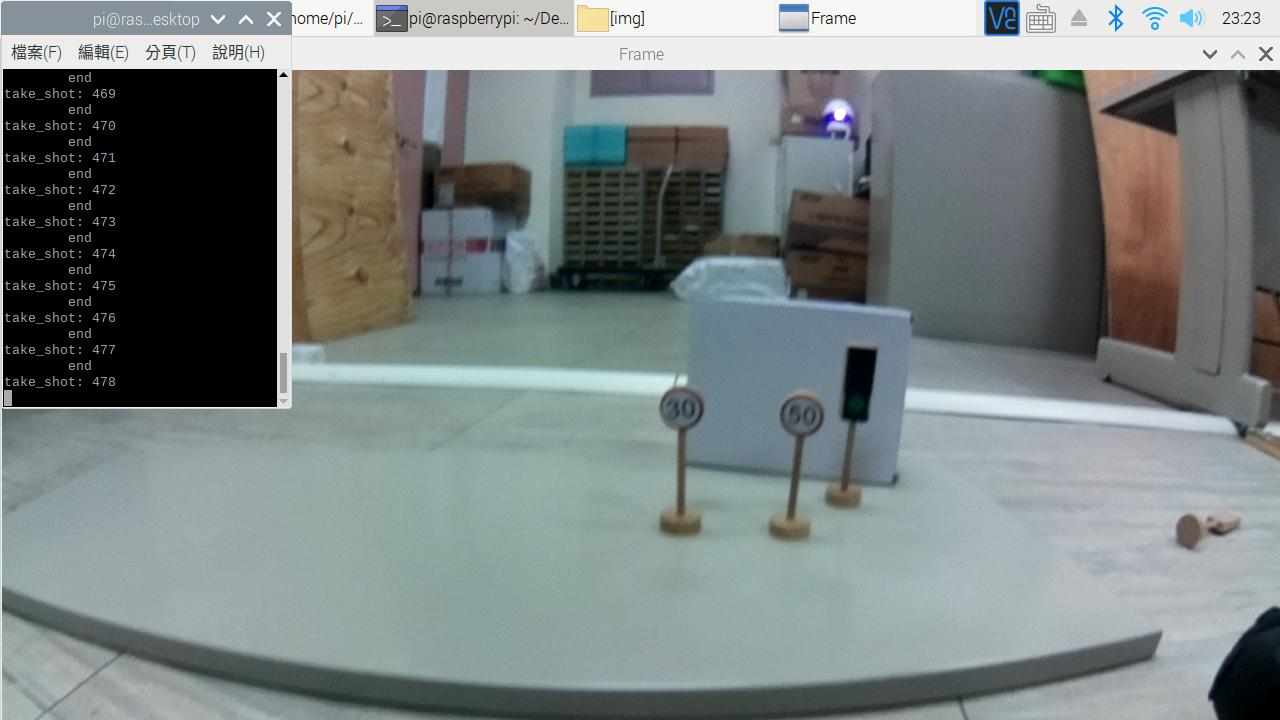Green: (837, 335, 885, 434)
Speed30: (653, 385, 716, 436)
Speed50: (773, 386, 822, 440)
